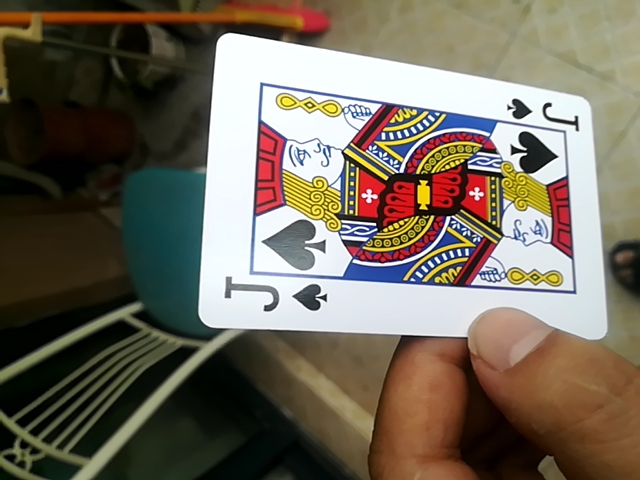ht j: (193, 34, 607, 352)
